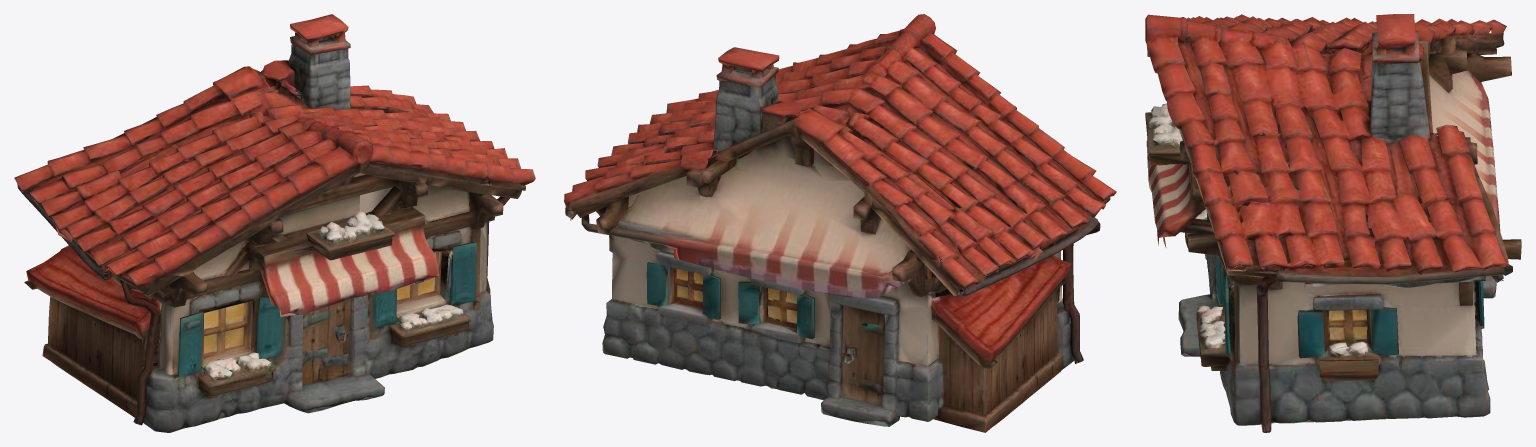
The model's file is candidate.glb.
The picture shows the model from 3 angles, left to right: view 1: azimuth 30°, elevation 25°; view 2: azimuth 150°, elevation 25°; view 3: azimuth 270°, elevation 25°; orthographic projection. The views are drawn at different scales.
Visible parts, largest first — view 1: alpine__shop_1__native_mobile; view 2: alpine__shop_1__native_mobile; view 3: alpine__shop_1__native_mobile.
Part boxes in pixels (left/top/right/bottom): alpine__shop_1__native_mobile: left=14, top=14, right=535, bottom=432; alpine__shop_1__native_mobile: left=564, top=14, right=1116, bottom=432; alpine__shop_1__native_mobile: left=1145, top=14, right=1521, bottom=432.
Bounding box in the file's own units: 1 × 0.6721 × 0.6589.
1 material, 1 textured.
